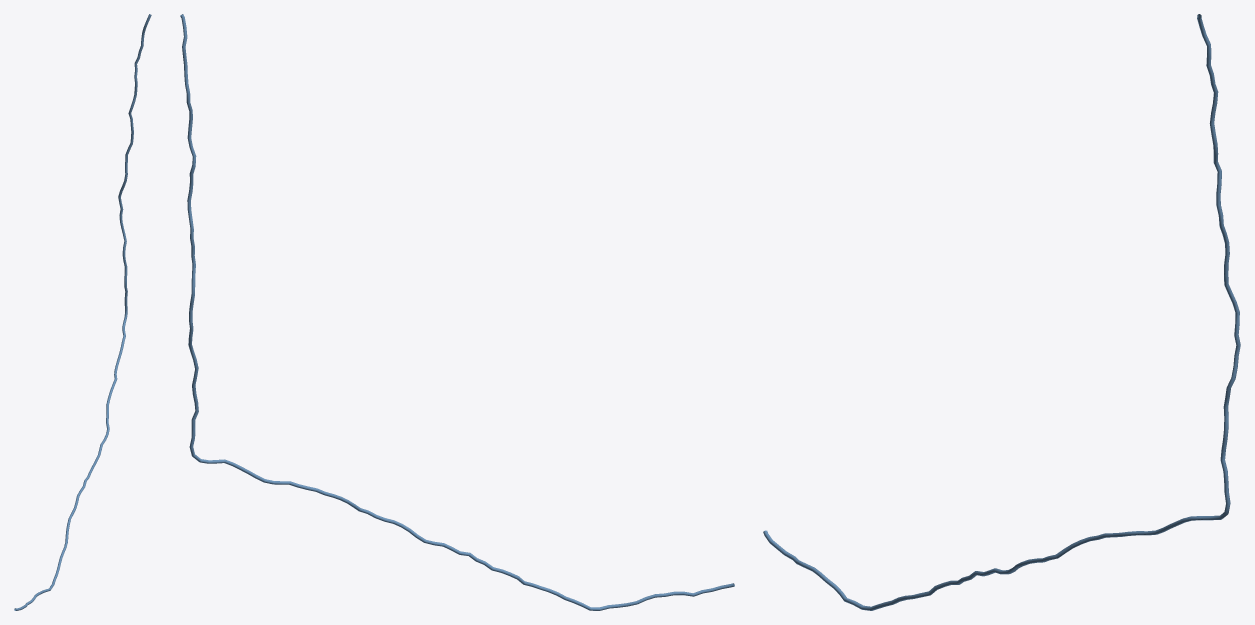
The model's file is sweep159.fbx.
3 renders of one model, left to right at view 1: azimuth 30°, elevation 25°; view 2: azimuth 150°, elevation 25°; view 3: azimuth 270°, elevation 25°, orthographic. The views are drawn at different scales.
Visible parts, largest first — view 1: sweep159; view 2: sweep159; view 3: sweep159.
Part boxes in pixels (<box>): sweep159: <box>14,14,151,610</box>; sweep159: <box>180,14,734,610</box>; sweep159: <box>763,14,1240,610</box>.
Bounding box in the file's own units: 2.27 × 3.67 × 2.1.
